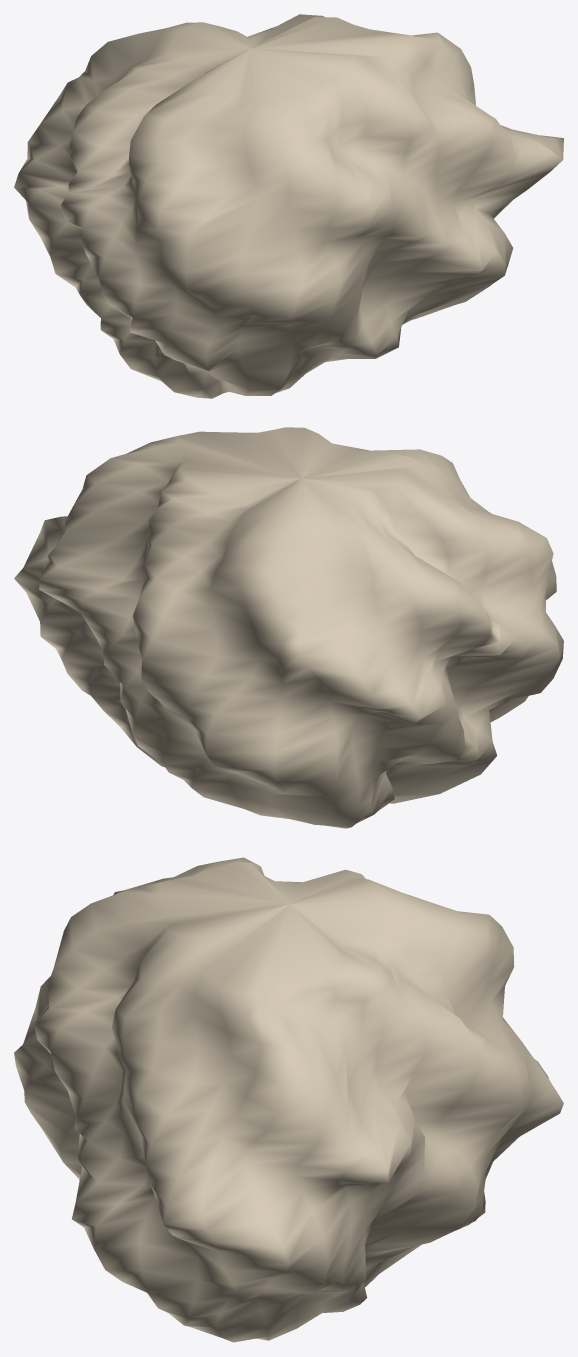
File: rock2.glb
The picture shows the model from 3 angles, top to bottom: view 1: azimuth 30°, elevation 25°; view 2: azimuth 150°, elevation 25°; view 3: azimuth 270°, elevation 25°; orthographic projection. The views are drawn at different scales.
Parts seen in each view (by area): view 1: rock2_rock; view 2: rock2_rock; view 3: rock2_rock.
Boxes of the visible parts, x1,y1,x2,y2 form: rock2_rock: (14,14,563,398); rock2_rock: (14,427,563,828); rock2_rock: (14,857,563,1342).
Size of the model in its own units: 2.34 by 1.49 by 1.92.
